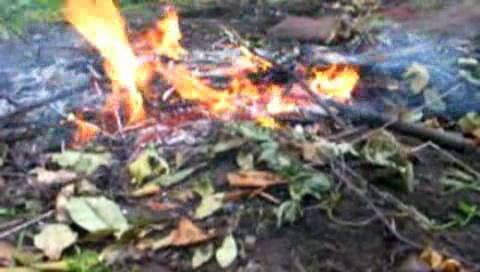fire: (73, 3, 352, 104)
